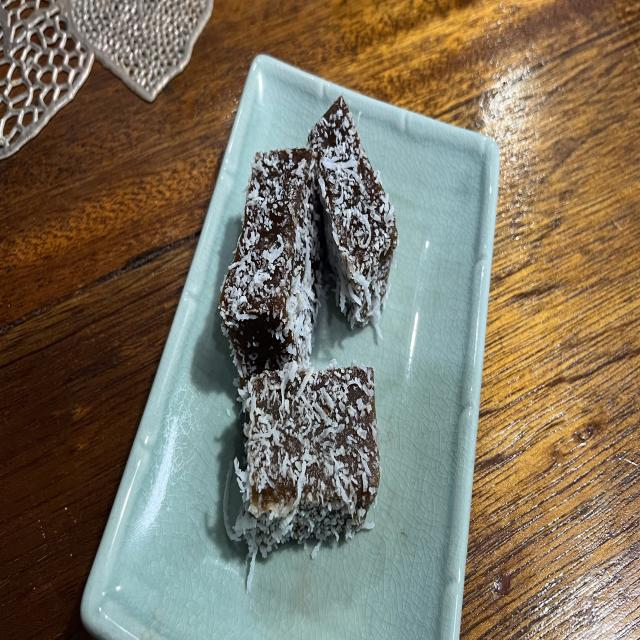kaswi: (230, 364, 380, 560), (219, 149, 322, 387), (309, 98, 398, 333)
